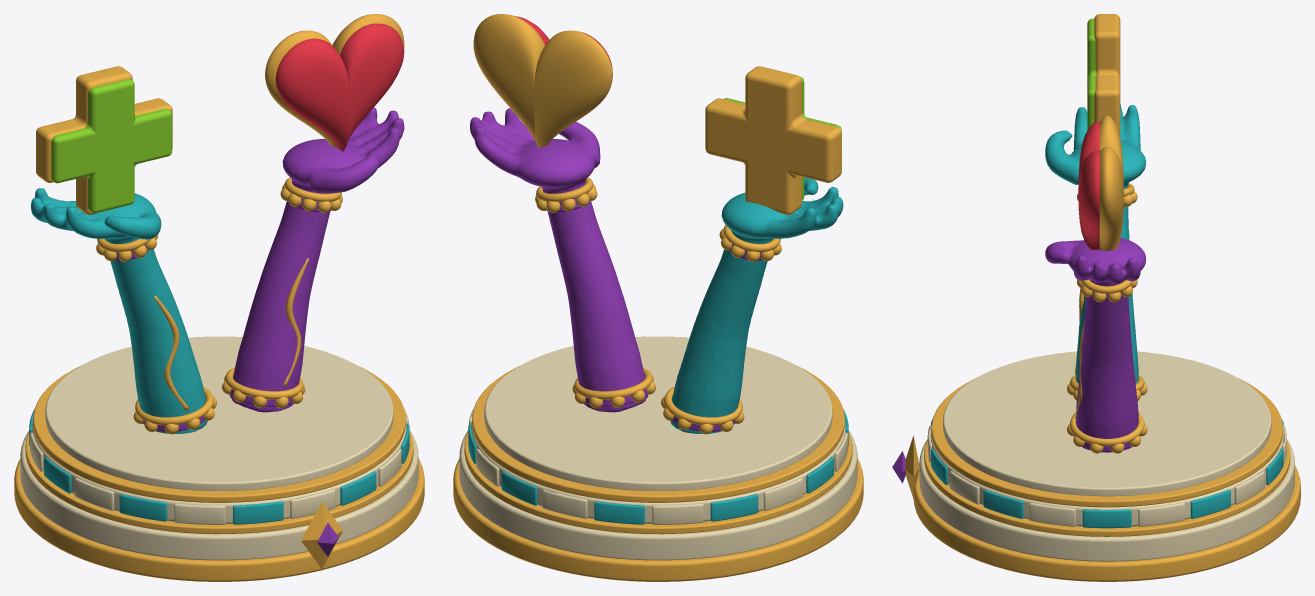
Rendered from health-statue.glb.
3 views of the same model, side by side, from view 1: azimuth 30°, elevation 25°; view 2: azimuth 150°, elevation 25°; view 3: azimuth 270°, elevation 25° (orthographic). The views are drawn at different scales.
Parts seen in each view (by area): view 1: Pedestal | inset top, Right | supporting forearm and open hand, Left | supporting forearm and open hand, Pedestal | enamel drum, Heart | coral enamel, Medical cross | green enamel, Pedestal | lower gold foot, Pedestal | upper gold rim, Pedestal | middle gold rim, Medical cross | gold surround, Heart | gold surround, Pedestal | tiled upper tier (+13 smaller); view 2: Pedestal | inset top, Right | supporting forearm and open hand, Left | supporting forearm and open hand, Medical cross | gold surround, Heart | gold surround, Pedestal | enamel drum, Pedestal | lower gold foot, Pedestal | upper gold rim, Pedestal | middle gold rim, Pedestal | tiled upper tier, Pedestal | enamel tile 07, Pedestal | enamel tile 06 (+9 smaller); view 3: Pedestal | inset top, Right | supporting forearm and open hand, Pedestal | enamel drum, Pedestal | lower gold foot, Pedestal | upper gold rim, Left | supporting forearm and open hand, Pedestal | middle gold rim, Heart | gold surround, Medical cross | gold surround, Heart | coral enamel, Pedestal | tiled upper tier, Pedestal | enamel tile 00 (+9 smaller).
Part boxes in pixels (x1=…): Pedestal | inset top: x1=45, y1=336, x2=393, y2=490; Right | supporting forearm and open hand: x1=229, y1=107, x2=404, y2=412; Left | supporting forearm and open hand: x1=31, y1=188, x2=207, y2=433; Pedestal | enamel drum: x1=20, y1=430, x2=418, y2=560; Heart | coral enamel: x1=275, y1=23, x2=404, y2=151; Medical cross | green enamel: x1=51, y1=79, x2=172, y2=213; Pedestal | lower gold foot: x1=14, y1=459, x2=424, y2=581; Pedestal | upper gold rim: x1=33, y1=366, x2=405, y2=502; Pedestal | middle gold rim: x1=25, y1=431, x2=413, y2=534; Medical cross | gold surround: x1=36, y1=66, x2=172, y2=214; Heart | gold surround: x1=265, y1=14, x2=404, y2=147; Pedestal | tiled upper tier: x1=32, y1=420, x2=406, y2=523; Pedestal | inset top: x1=484, y1=336, x2=832, y2=490; Right | supporting forearm and open hand: x1=470, y1=108, x2=648, y2=412; Left | supporting forearm and open hand: x1=670, y1=177, x2=843, y2=433; Medical cross | gold surround: x1=705, y1=66, x2=841, y2=214; Heart | gold surround: x1=473, y1=14, x2=612, y2=148; Pedestal | enamel drum: x1=459, y1=430, x2=857, y2=560; Pedestal | lower gold foot: x1=453, y1=459, x2=863, y2=581; Pedestal | upper gold rim: x1=472, y1=366, x2=844, y2=502; Pedestal | middle gold rim: x1=464, y1=431, x2=852, y2=534; Pedestal | tiled upper tier: x1=471, y1=420, x2=845, y2=523; Pedestal | enamel tile 07: x1=652, y1=503, x2=703, y2=524; Pedestal | enamel tile 06: x1=594, y1=501, x2=644, y2=524; Pedestal | inset top: x1=943, y1=351, x2=1271, y2=496; Right | supporting forearm and open hand: x1=1045, y1=238, x2=1145, y2=452; Pedestal | enamel drum: x1=919, y1=439, x2=1294, y2=561; Pedestal | lower gold foot: x1=913, y1=465, x2=1300, y2=581; Pedestal | upper gold rim: x1=931, y1=378, x2=1282, y2=507; Left | supporting forearm and open hand: x1=1045, y1=103, x2=1145, y2=400; Pedestal | middle gold rim: x1=924, y1=440, x2=1290, y2=536; Heart | gold surround: x1=1099, y1=115, x2=1123, y2=250; Medical cross | gold surround: x1=1094, y1=14, x2=1120, y2=137; Heart | coral enamel: x1=1078, y1=121, x2=1099, y2=250; Pedestal | tiled upper tier: x1=930, y1=429, x2=1283, y2=526; Pedestal | enamel tile 00: x1=1082, y1=509, x2=1131, y2=528.
Size of the model in its own units: 3.83 by 4.48 by 3.91.
